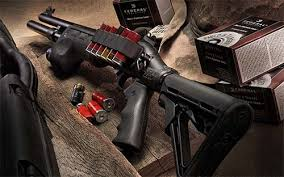gun: (24, 6, 254, 174)
